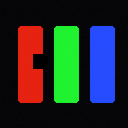1 square: (33, 54, 47, 68)
